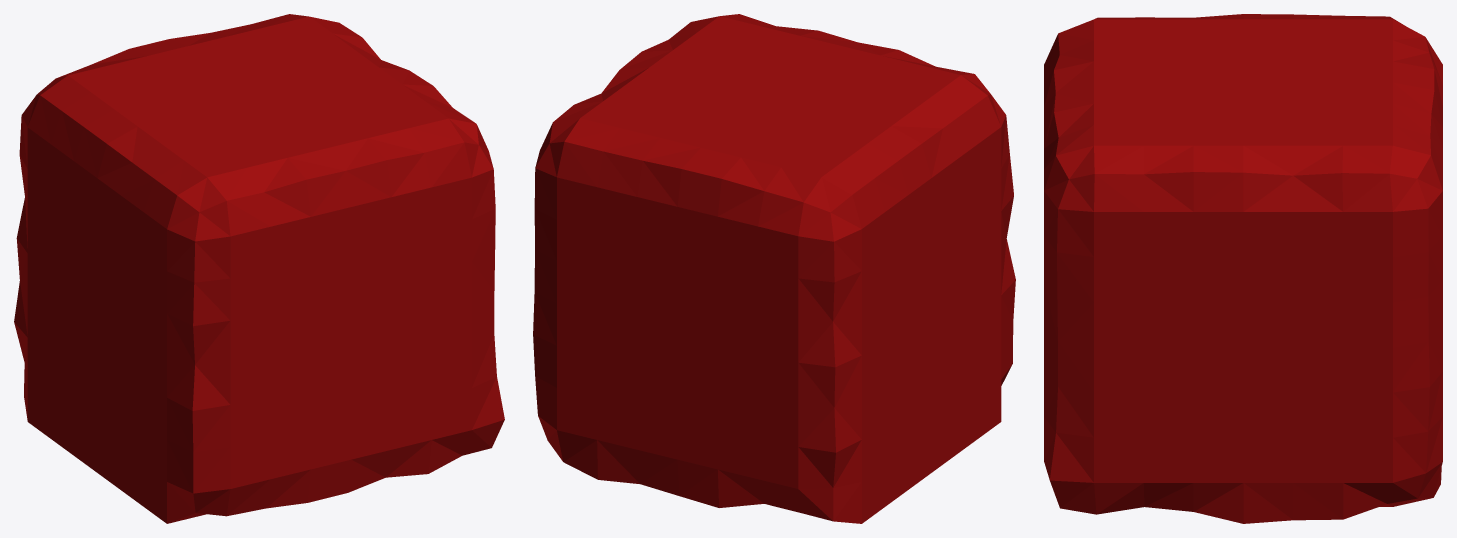
File: deathBlock.obj
3 renders of one model, left to right at view 1: azimuth 30°, elevation 25°; view 2: azimuth 150°, elevation 25°; view 3: azimuth 270°, elevation 25°, orthographic. The views are drawn at different scales.
Parts seen in each view (by area): view 1: 立方体.001; view 2: 立方体.001; view 3: 立方体.001.
Part boxes in pixels (box(x1,y1,x2,y2)): 立方体.001: box(14, 14, 504, 523); 立方体.001: box(533, 14, 1015, 523); 立方体.001: box(1044, 14, 1442, 523).
Bounding box in the file's own units: 1 × 1 × 1.
1 material, 1 textured.
